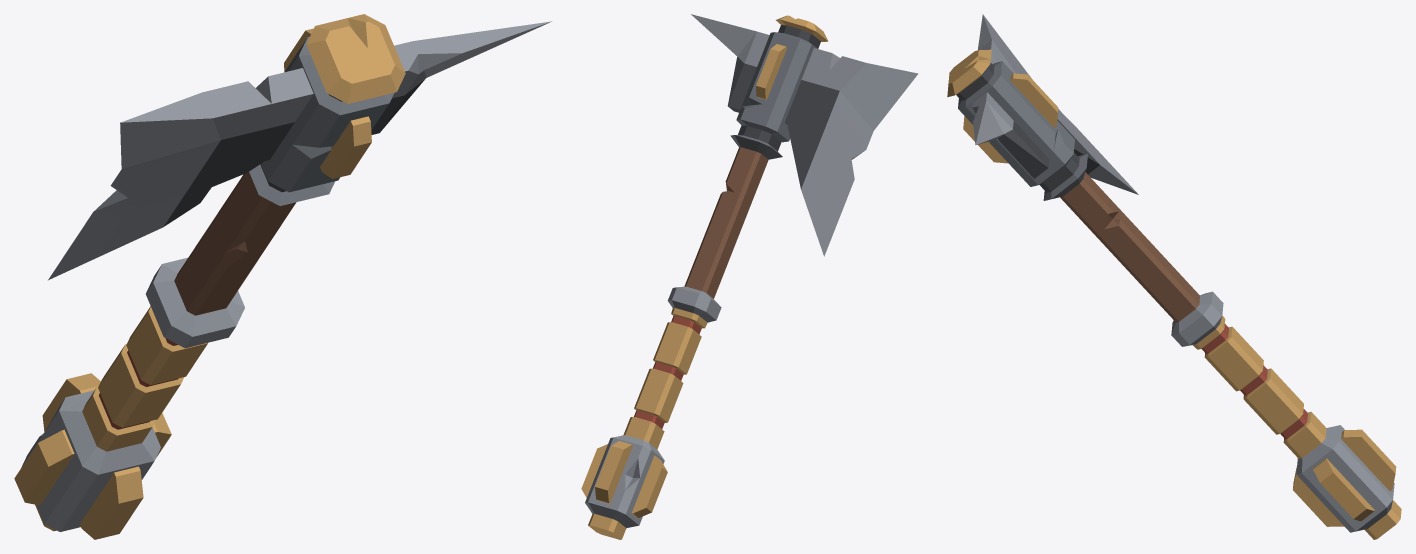
File: dr-axe-small-06.glb
The picture shows the model from 3 angles, left to right: view 1: azimuth 30°, elevation 25°; view 2: azimuth 150°, elevation 25°; view 3: azimuth 270°, elevation 25°; orthographic projection. The views are drawn at different scales.
Visible parts, largest first — view 1: dr-axe-small-06; view 2: dr-axe-small-06; view 3: dr-axe-small-06.
Boxes of the visible parts, box(x1,y1,x2,y2) form: dr-axe-small-06: box(14, 14, 551, 539); dr-axe-small-06: box(581, 14, 918, 539); dr-axe-small-06: box(947, 14, 1401, 539).
Bounding box in the file's own units: 0.3959 × 0.6544 × 0.5746.
Materials: 1 (1 with a texture image).
